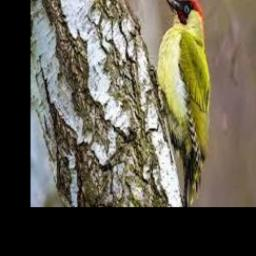Woodpecker: (147, 0, 212, 207)
